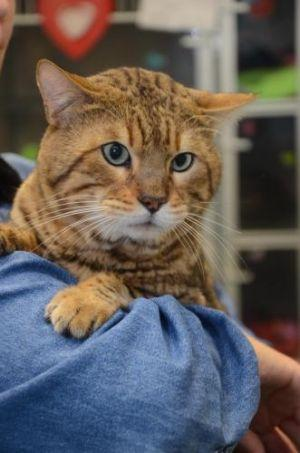bengal: (22, 39, 266, 263)
